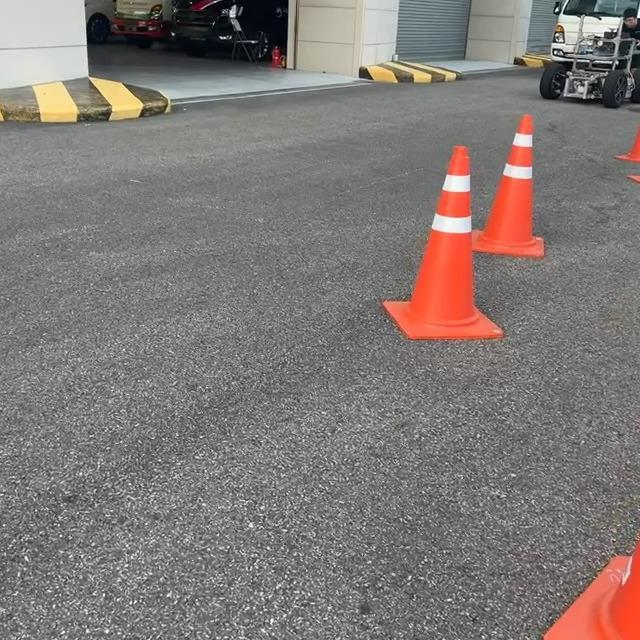fallen_object: (336, 133, 518, 520), (440, 25, 597, 348), (523, 491, 640, 640)
